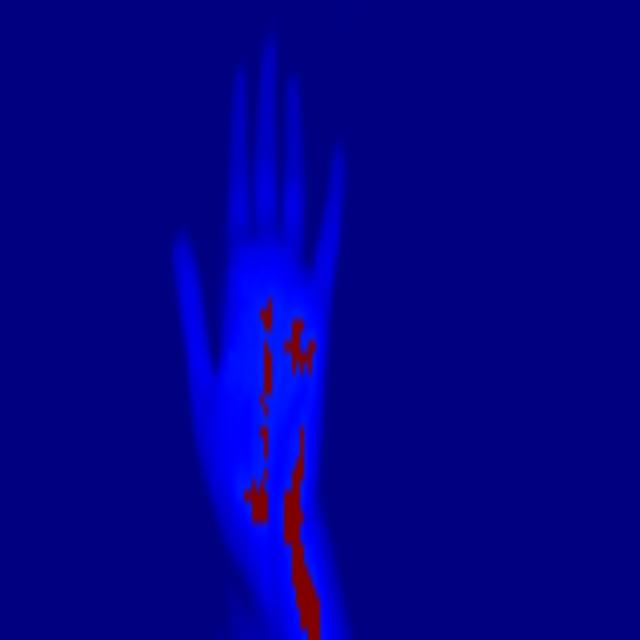hand: (158, 25, 380, 595)
